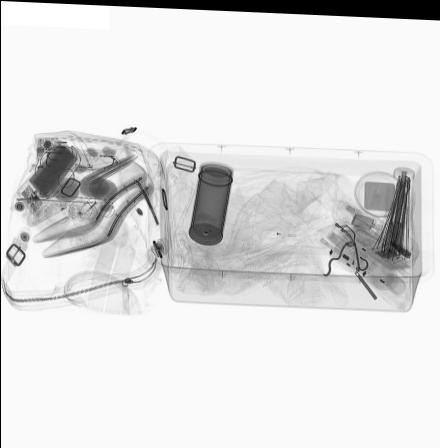Powerbank: (16, 139, 79, 212)
